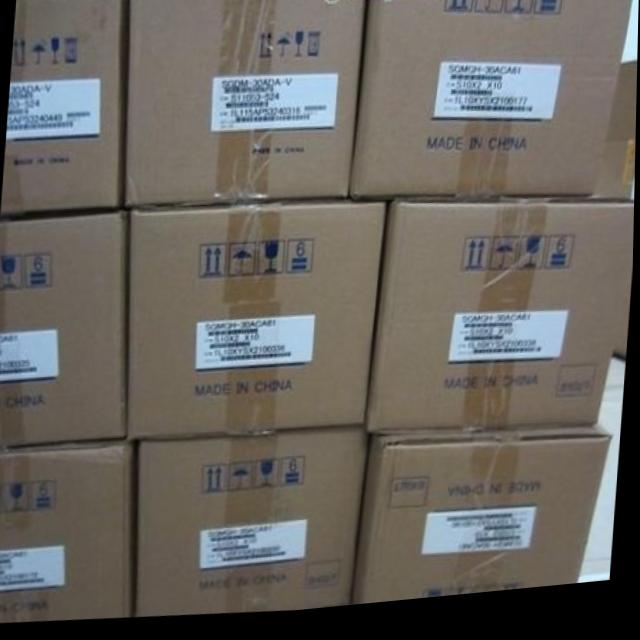box: (124, 206, 389, 444), (368, 207, 635, 442), (351, 0, 636, 208), (124, 0, 368, 212), (357, 437, 613, 612), (136, 431, 369, 619), (0, 211, 128, 448), (1, 0, 129, 220), (0, 443, 138, 620)
